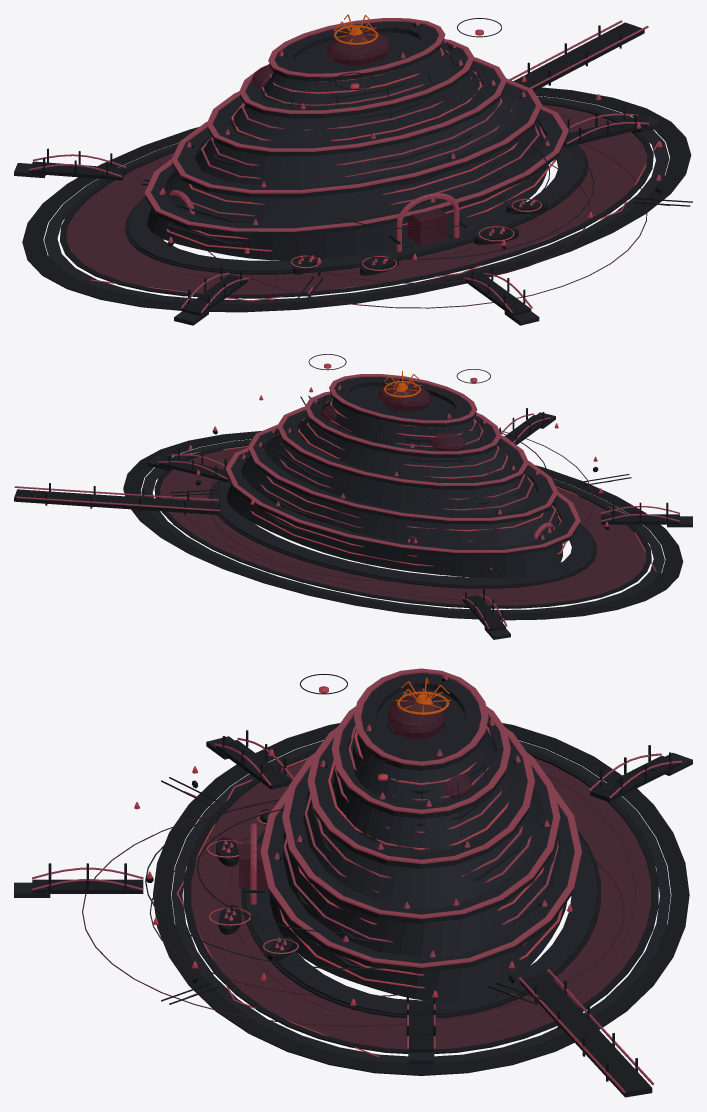
File: relationships-ext.glb
The picture shows the model from 3 angles, top to bottom: view 1: azimuth 30°, elevation 25°; view 2: azimuth 150°, elevation 25°; view 3: azimuth 270°, elevation 25°; orthographic projection. The views are drawn at different scales.
Visible parts, largest first — view 1: relationships_ext_base_packed, relationships_ext_detail_packed, relationships_ext_glass_packed, relationships_ext_accent_packed, relationships_ext_emissive_packed, relationships_s73_glass_polish_mesh, relationships_s73_base_polish_mesh, relationships_s73_detail_polish_mesh, relationships_ext_energy_packed; view 2: relationships_ext_base_packed, relationships_ext_detail_packed, relationships_ext_glass_packed, relationships_ext_accent_packed, relationships_ext_emissive_packed, relationships_s73_detail_polish_mesh, relationships_s73_glass_polish_mesh, relationships_ext_energy_packed; view 3: relationships_ext_base_packed, relationships_ext_detail_packed, relationships_ext_glass_packed, relationships_ext_accent_packed, relationships_ext_emissive_packed, relationships_s73_glass_polish_mesh, relationships_s73_base_polish_mesh, relationships_s73_detail_polish_mesh, relationships_ext_energy_packed.
Boxes of the visible parts, x1,y1,x2,y2 form: relationships_ext_base_packed: (14, 21, 669, 325); relationships_ext_detail_packed: (22, 22, 691, 315); relationships_ext_glass_packed: (66, 30, 647, 298); relationships_ext_accent_packed: (29, 18, 649, 313); relationships_ext_emissive_packed: (90, 47, 659, 301); relationships_s73_glass_polish_mesh: (208, 143, 647, 308); relationships_s73_base_polish_mesh: (289, 144, 594, 259); relationships_s73_detail_polish_mesh: (141, 18, 692, 299); relationships_ext_energy_packed: (333, 14, 378, 44); relationships_ext_base_packed: (141, 377, 692, 639); relationships_ext_detail_packed: (14, 378, 683, 631); relationships_ext_glass_packed: (160, 382, 646, 608); relationships_ext_accent_packed: (14, 374, 679, 629); relationships_ext_emissive_packed: (187, 398, 656, 571); relationships_s73_detail_polish_mesh: (170, 354, 631, 574); relationships_s73_glass_polish_mesh: (207, 430, 593, 581); relationships_ext_energy_packed: (383, 371, 421, 397); relationships_ext_base_packed: (14, 673, 692, 1064); relationships_ext_detail_packed: (32, 677, 689, 1097); relationships_ext_glass_packed: (191, 693, 650, 1049); relationships_ext_accent_packed: (32, 668, 682, 1093); relationships_ext_emissive_packed: (176, 717, 563, 1057); relationships_s73_glass_polish_mesh: (82, 802, 624, 1026); relationships_s73_base_polish_mesh: (145, 799, 382, 969); relationships_s73_detail_polish_mesh: (146, 674, 545, 1010); relationships_ext_energy_packed: (395, 677, 450, 714).
Size of the model in its own units: 29.61 by 7.34 by 21.38.
